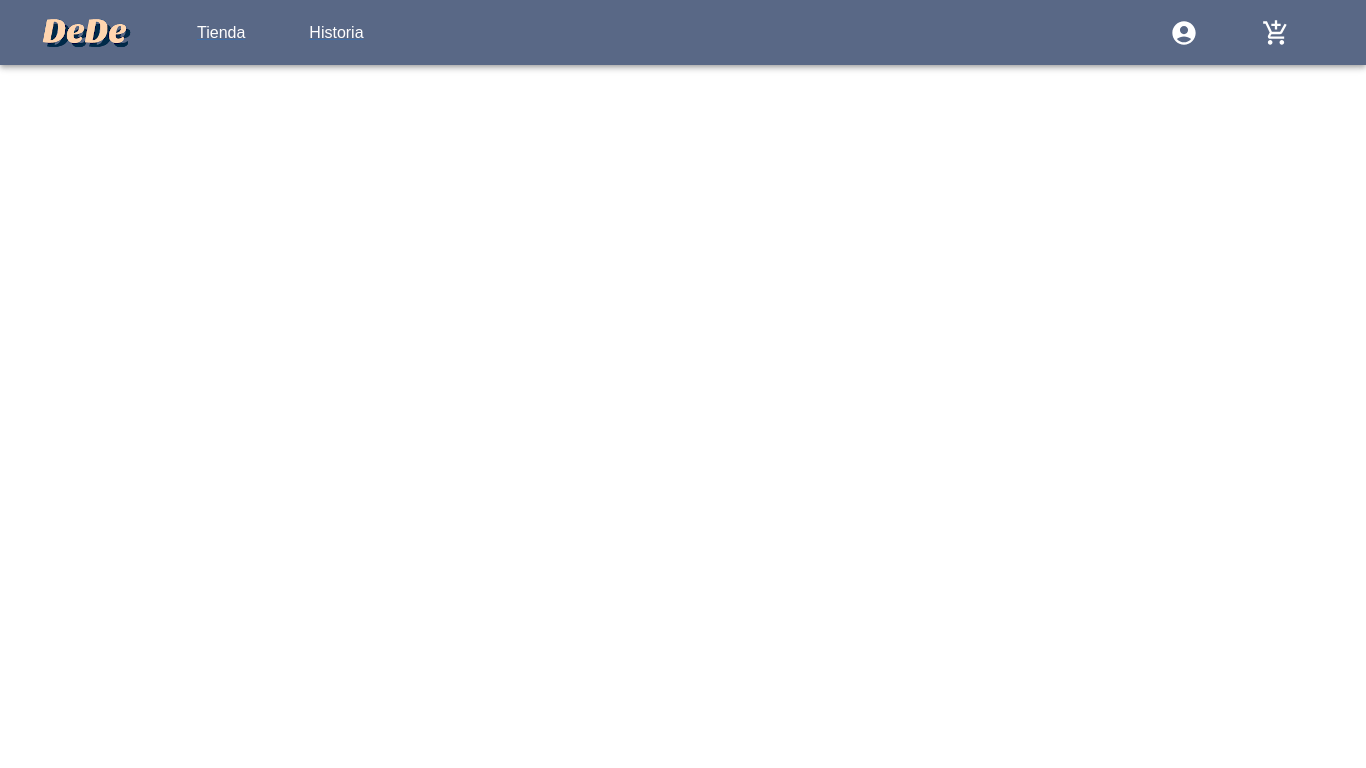
Test: click in cart button
Click the button with class "buttonCart" at {"x": 1276, "y": 32}, box [1250, 6, 1302, 58]
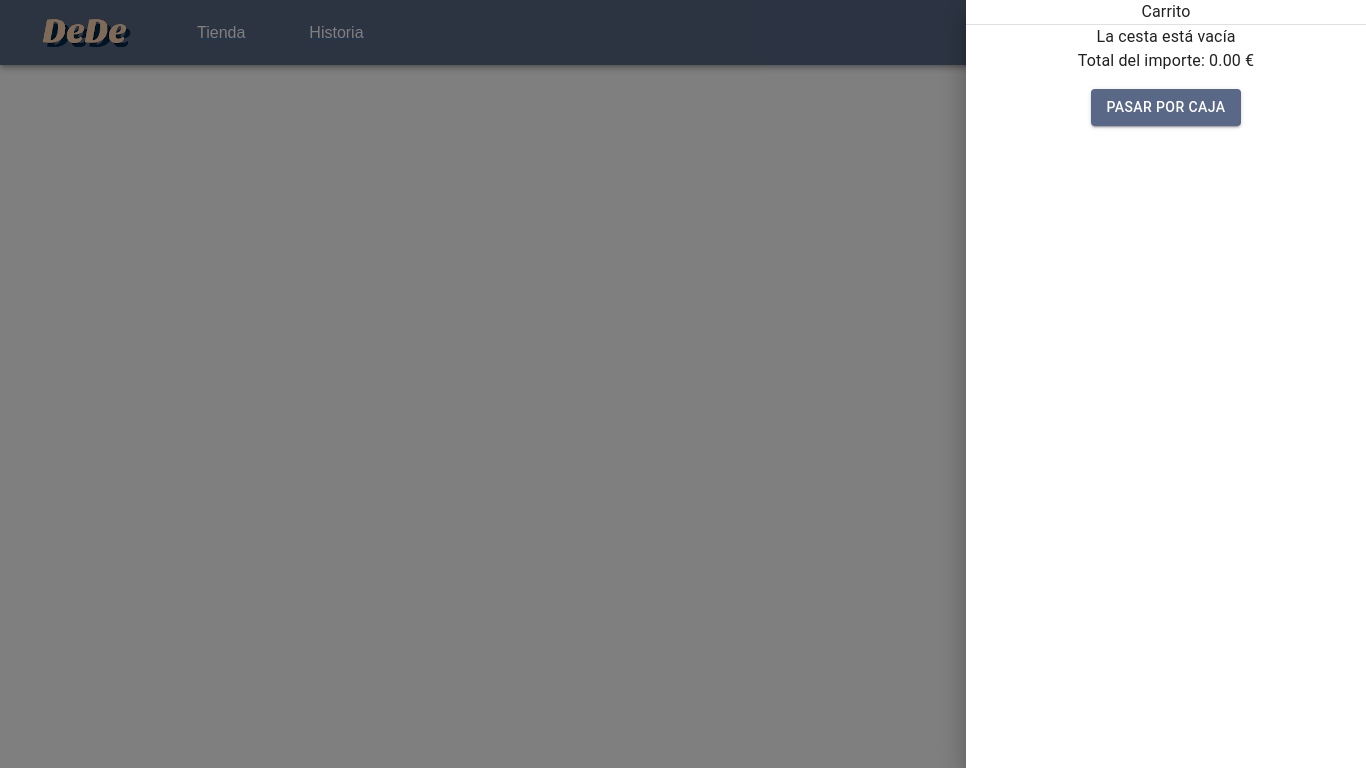
Expected: the text "Carrito" is shown, [1141, 2, 1190, 21]
Expected: the text "La cesta está vacía" is shown, [1096, 27, 1236, 46]
Expected: the text "Total del importe: 0.00 €" is shown, [1078, 51, 1254, 70]
